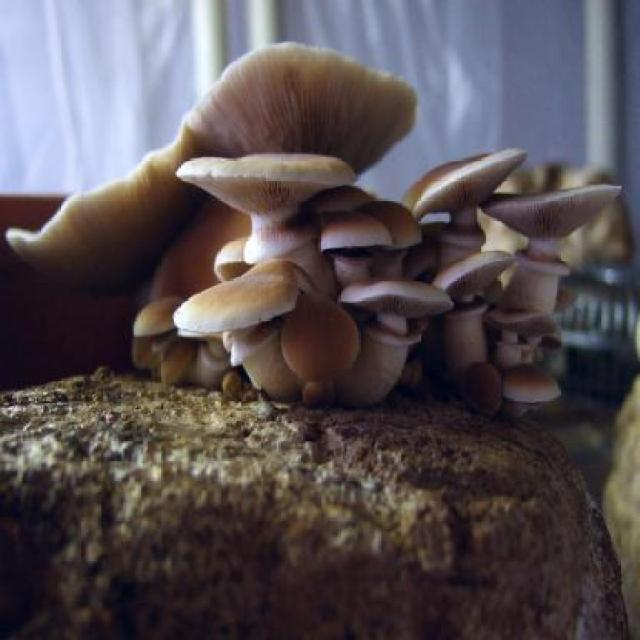Mushroom: (0, 39, 620, 422)
